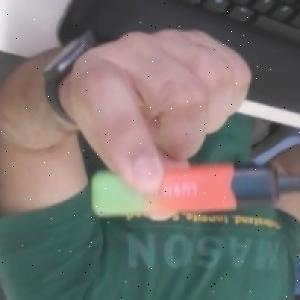Swift-E-Ciggirate: (86, 163, 300, 220)
